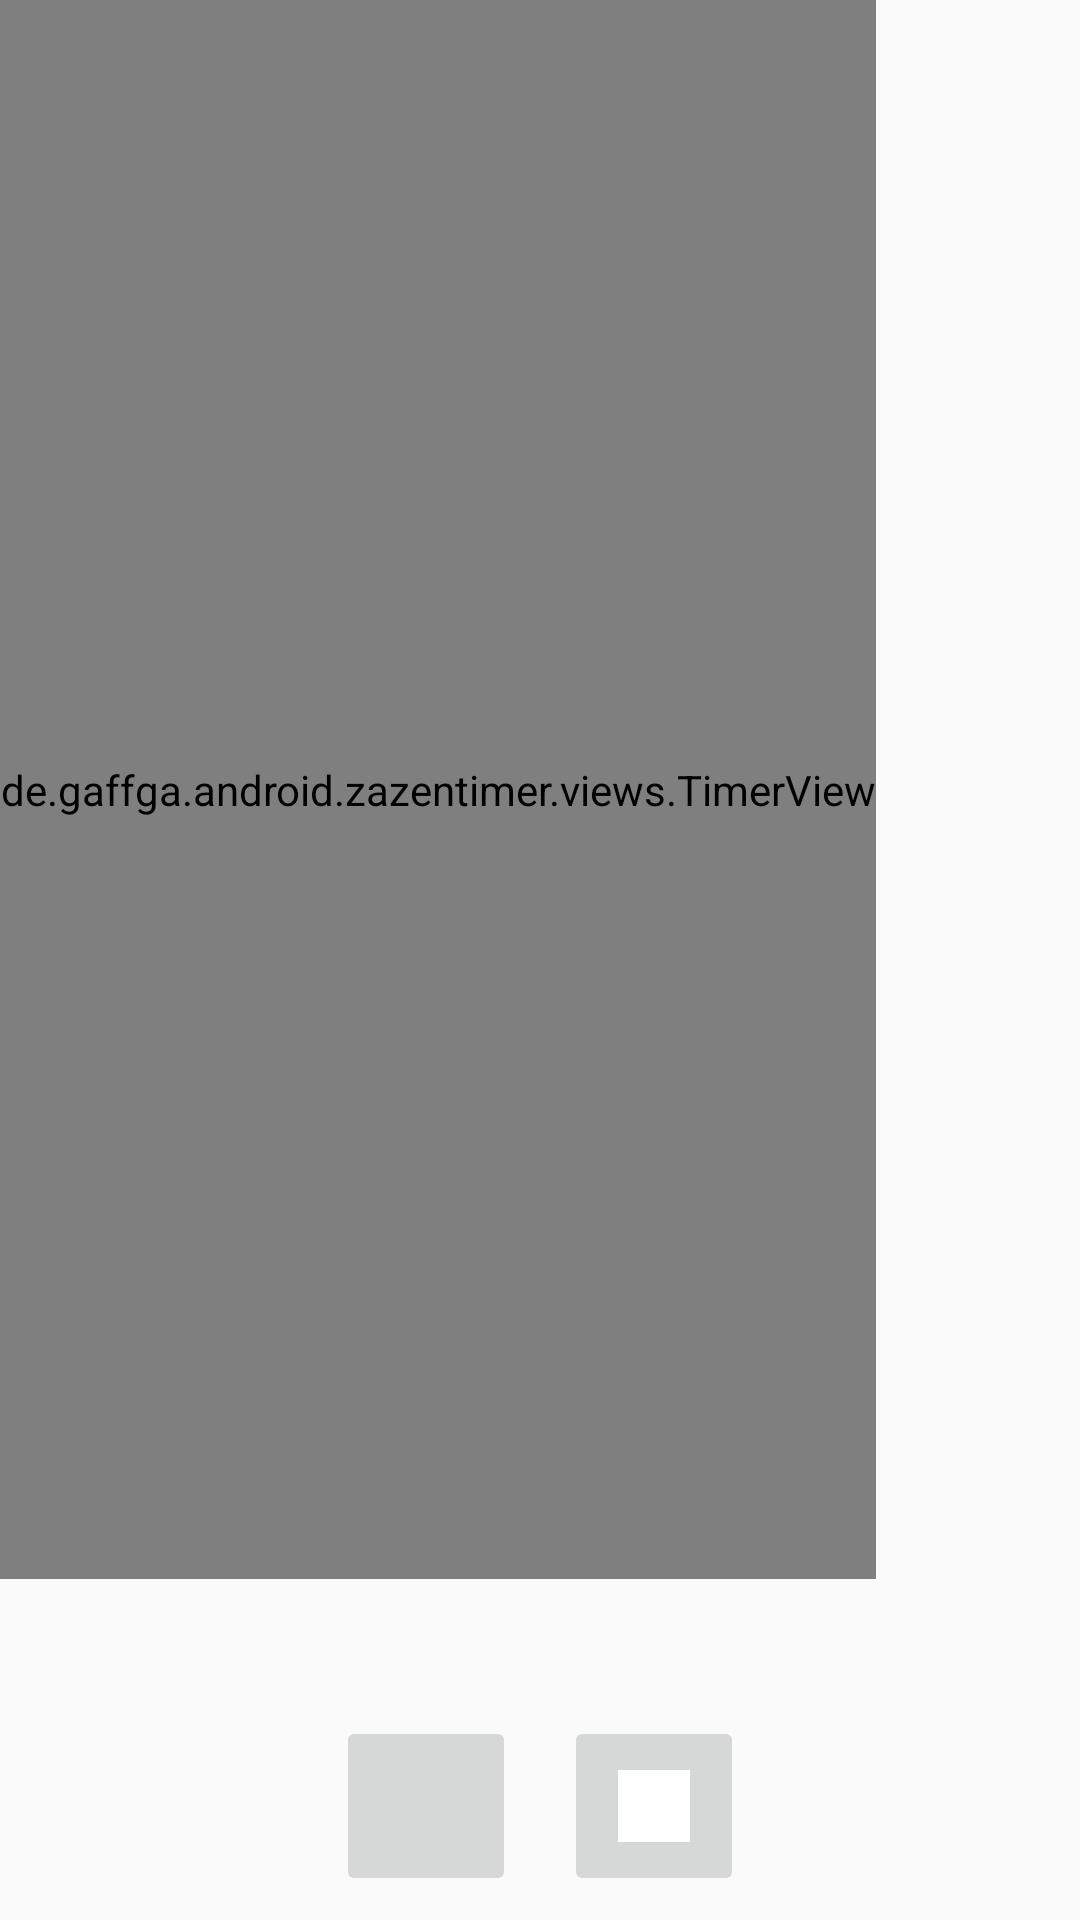

Icon bounding boxes for this 1080x1920 phone screenshot, format (x1, y1, x2, y2):
stop: (576, 1734, 732, 1878)
